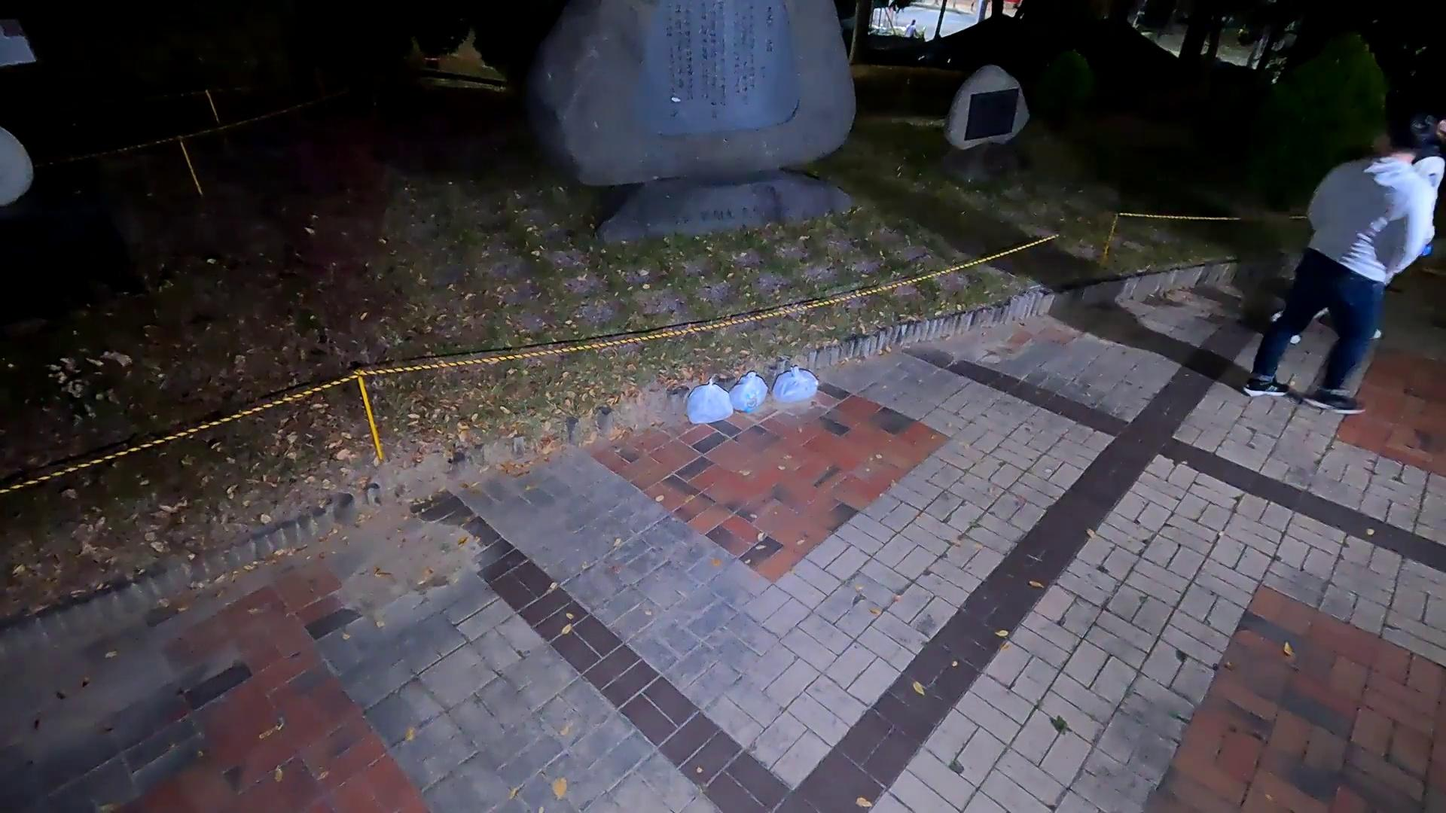person: (1244, 107, 1443, 414)
trash: (717, 364, 771, 419), (686, 377, 740, 431), (769, 361, 824, 409)
